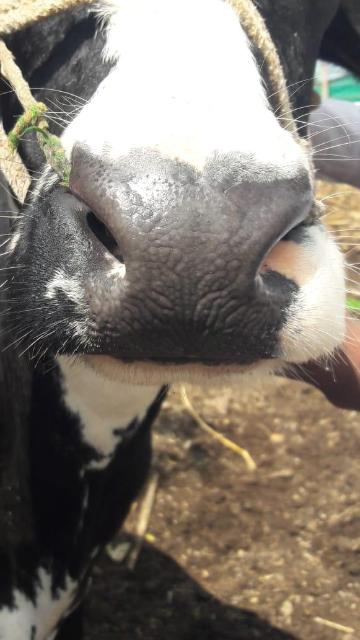Muzzle: (116, 165, 264, 338)
